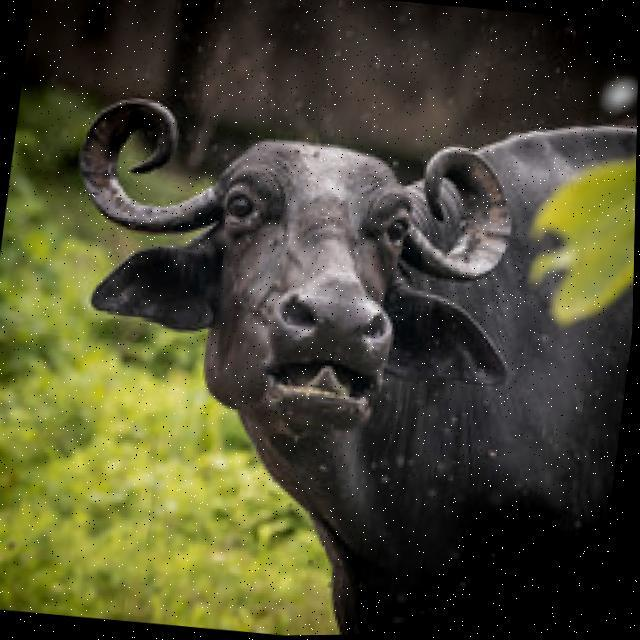Buffalo: (14, 62, 638, 640)
